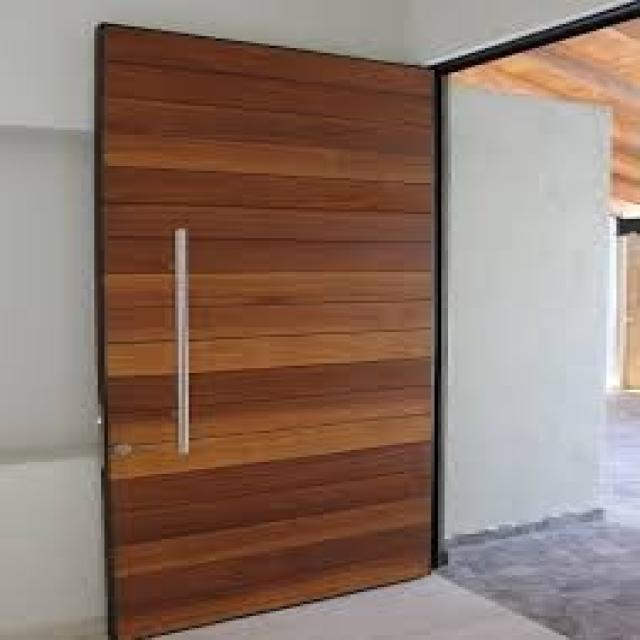door: (94, 20, 442, 639)
